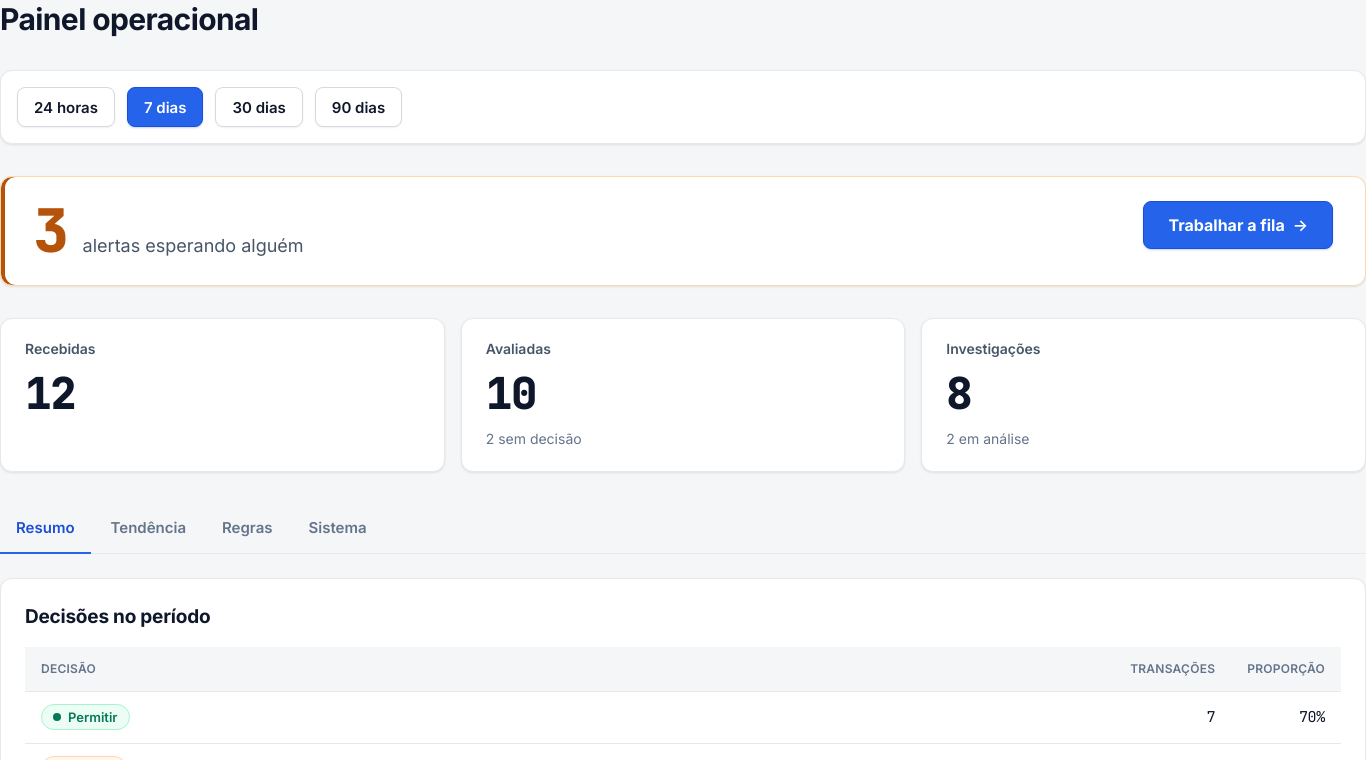
Scenario: painel operacional › mostra a tendência sem pular dias
The image size is (1366, 760).
Click the tab "Tendência": (148, 529) [94,504,202,554]
(page scrolled)
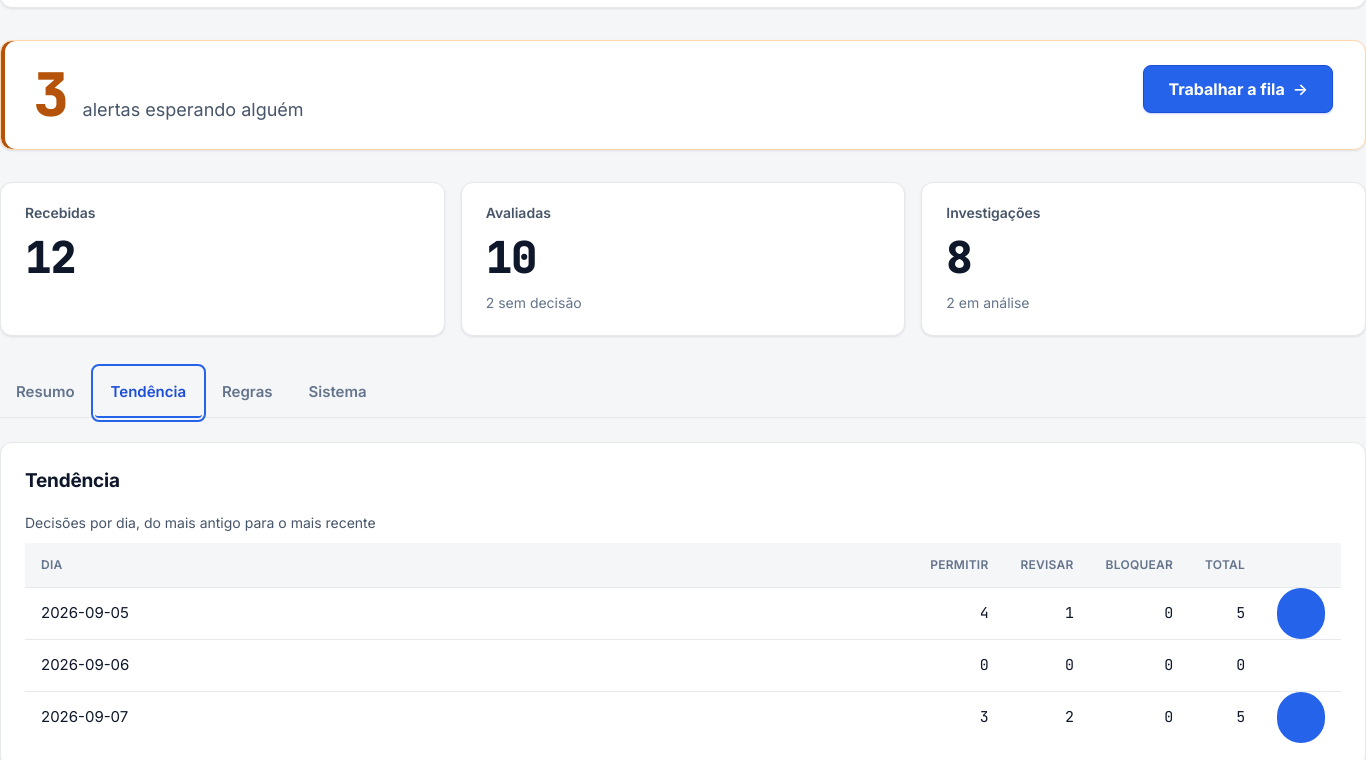
Result: the row "2026-09-06 0 0 0 0" is shown at [25,639,1341,691]
